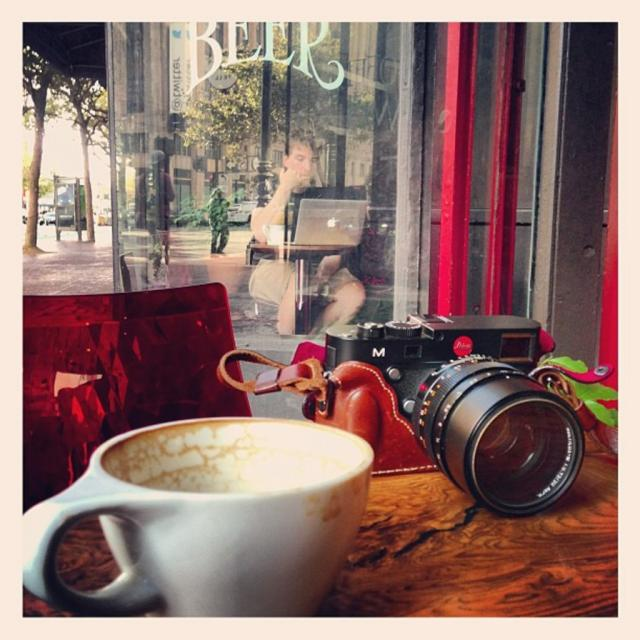Coffee: (37, 413, 381, 620)
